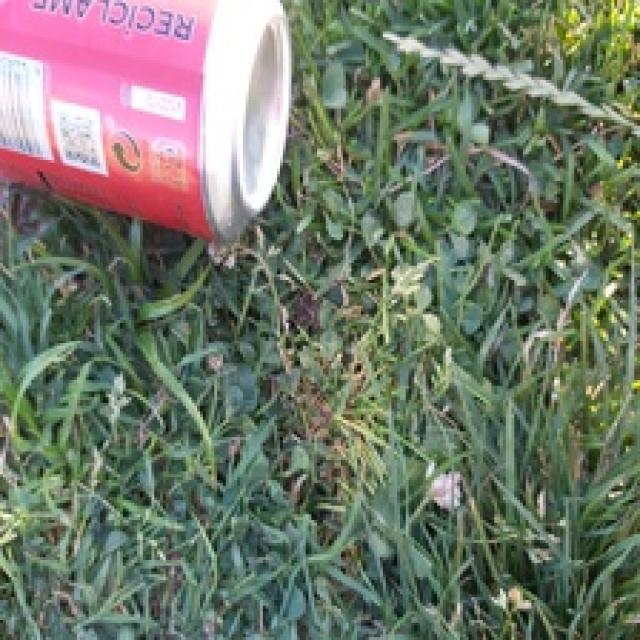recyclable: (0, 0, 291, 240)
